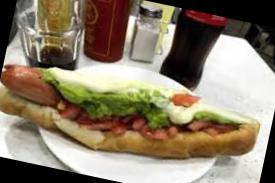Completos: (0, 46, 268, 170)
